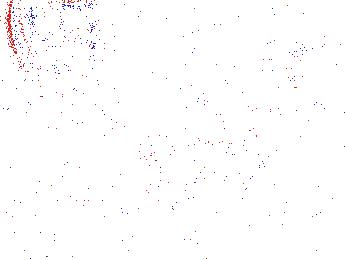moon jellyfish: (135, 141, 261, 208), (7, 1, 94, 97), (252, 50, 346, 116), (148, 1, 232, 68), (202, 86, 258, 163)
